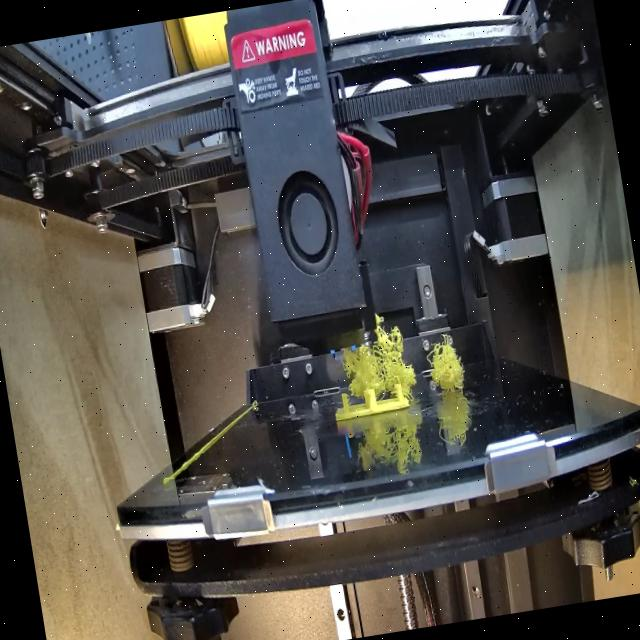spaghetti: (340, 321, 412, 397), (421, 332, 470, 398)
